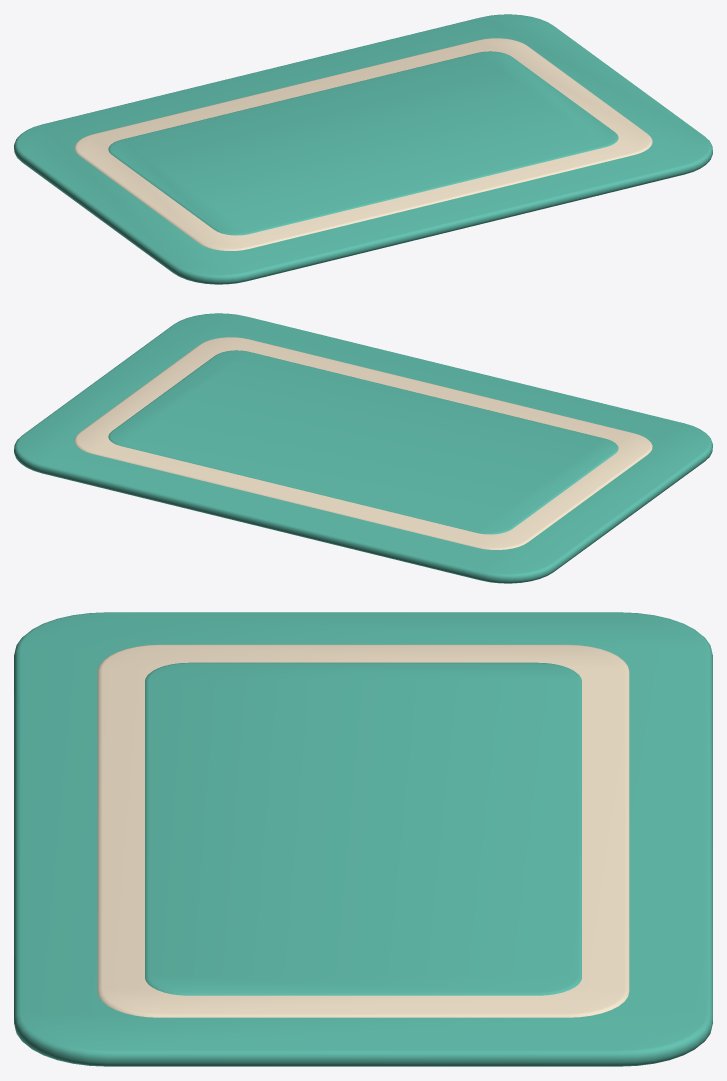
Rendered from rug_a.glb.
3 renders of one model, top to bottom at view 1: azimuth 30°, elevation 25°; view 2: azimuth 150°, elevation 25°; view 3: azimuth 270°, elevation 25°, orthographic. The views are drawn at different scales.
Parts seen in each view (by area): view 1: body; view 2: body; view 3: body.
Part boxes in pixels (x1,y1,x2,y2): body: (14, 14, 712, 284); body: (14, 313, 712, 583); body: (14, 612, 712, 1066).
Size of the model in its own units: 1.8 by 0.037 by 1.2.
